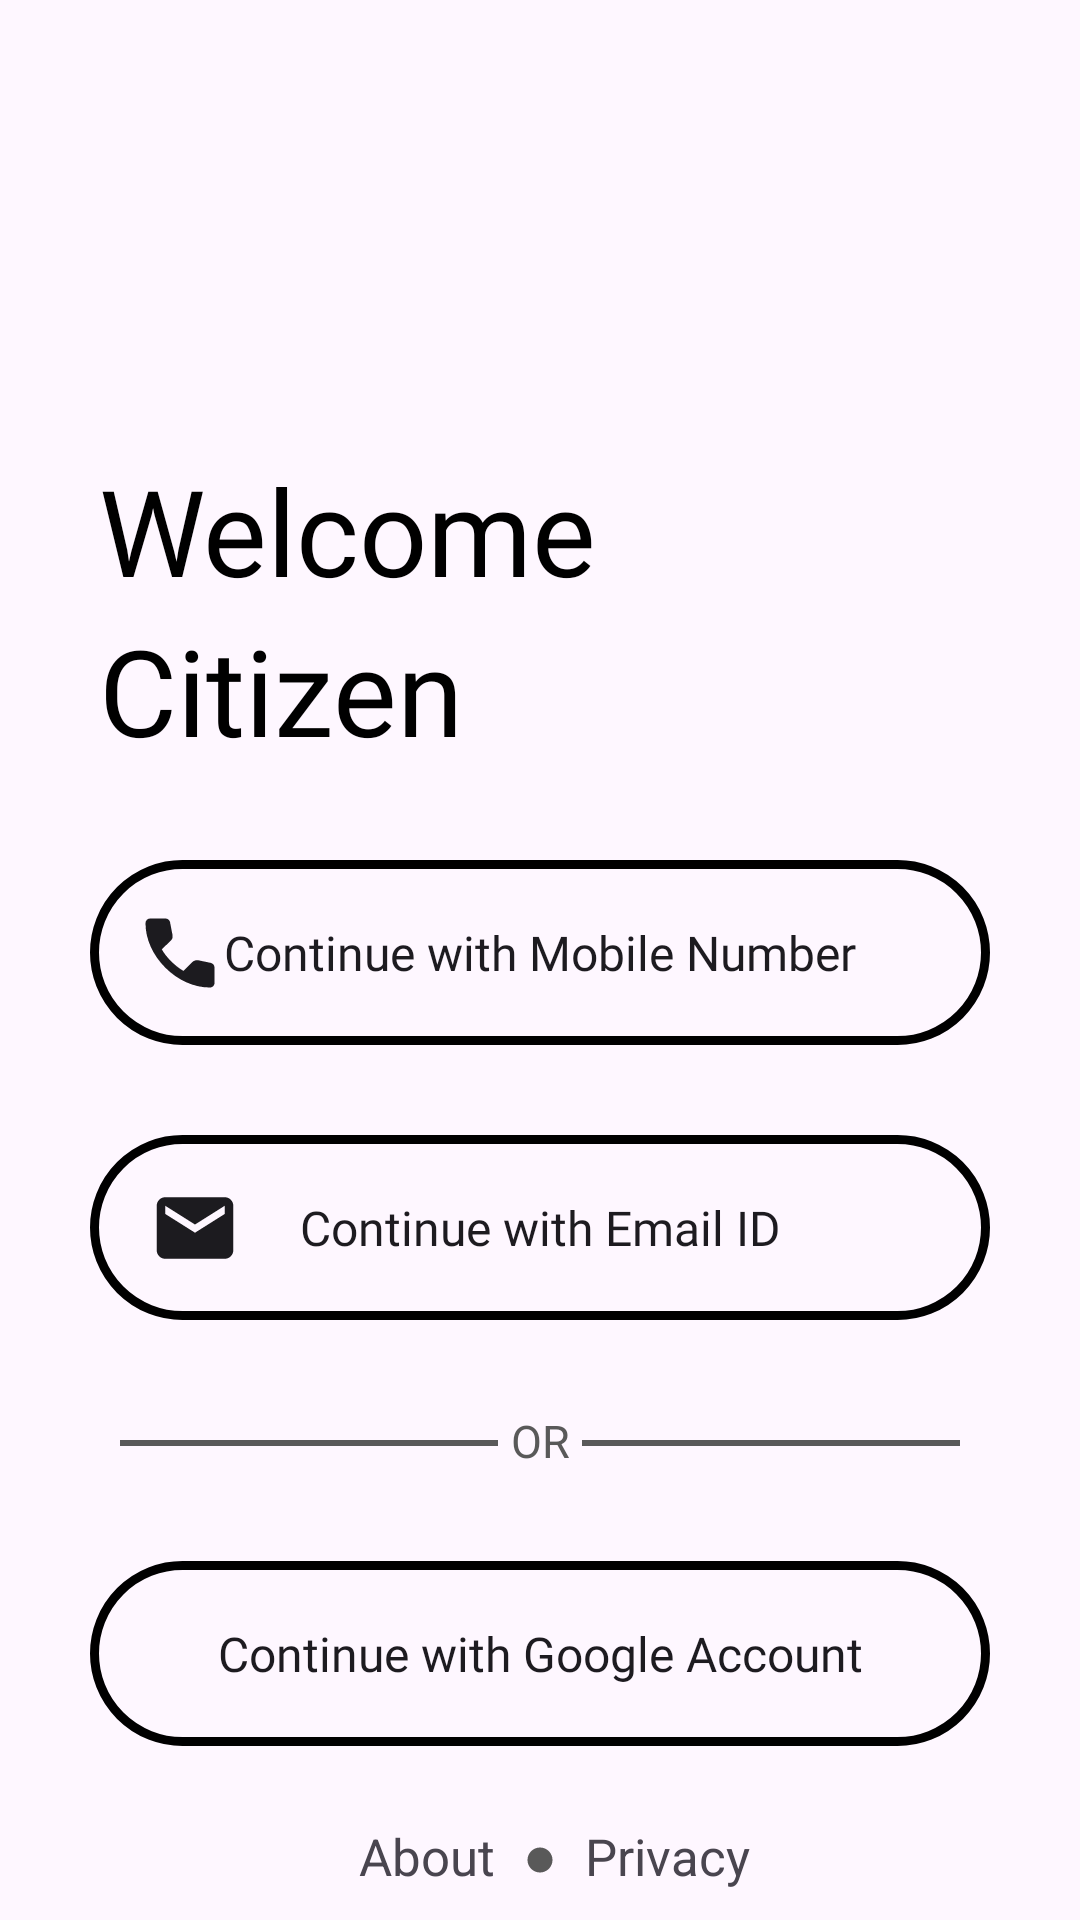

Icons on this 1080w x 1920h Android screen, each with its box as rect(x1, y1, x2, y2):
call: rect(145, 918, 215, 988)
